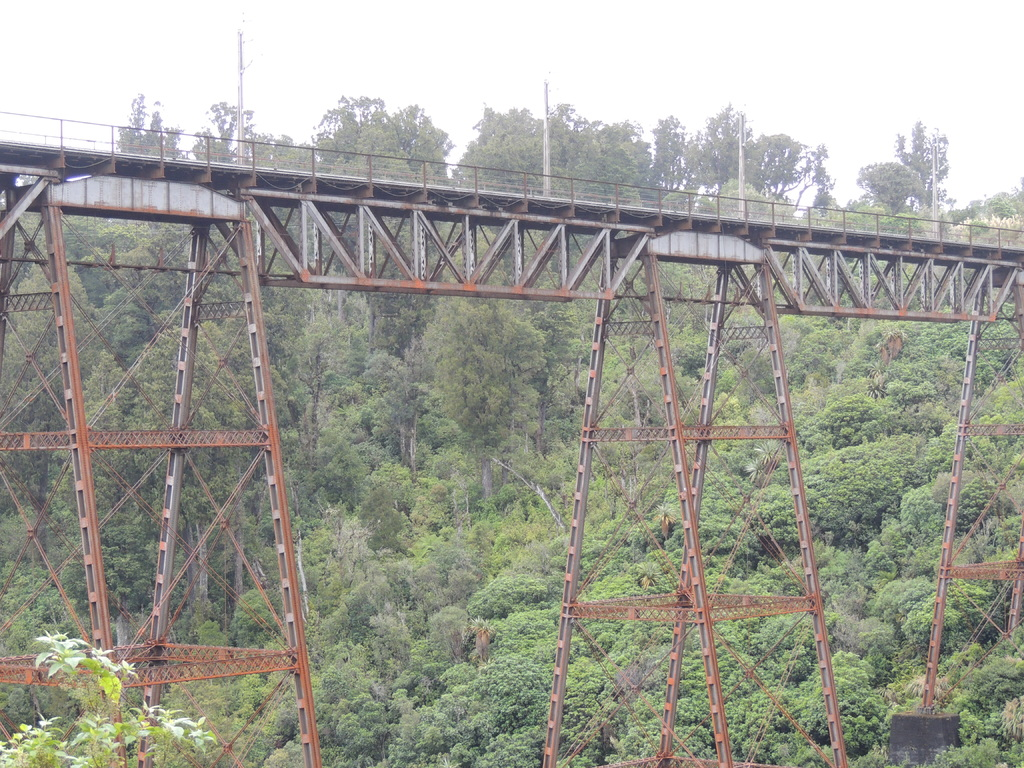Tree: (0, 91, 1023, 766)
